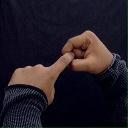hand: (7, 51, 74, 105), (60, 29, 113, 74)
